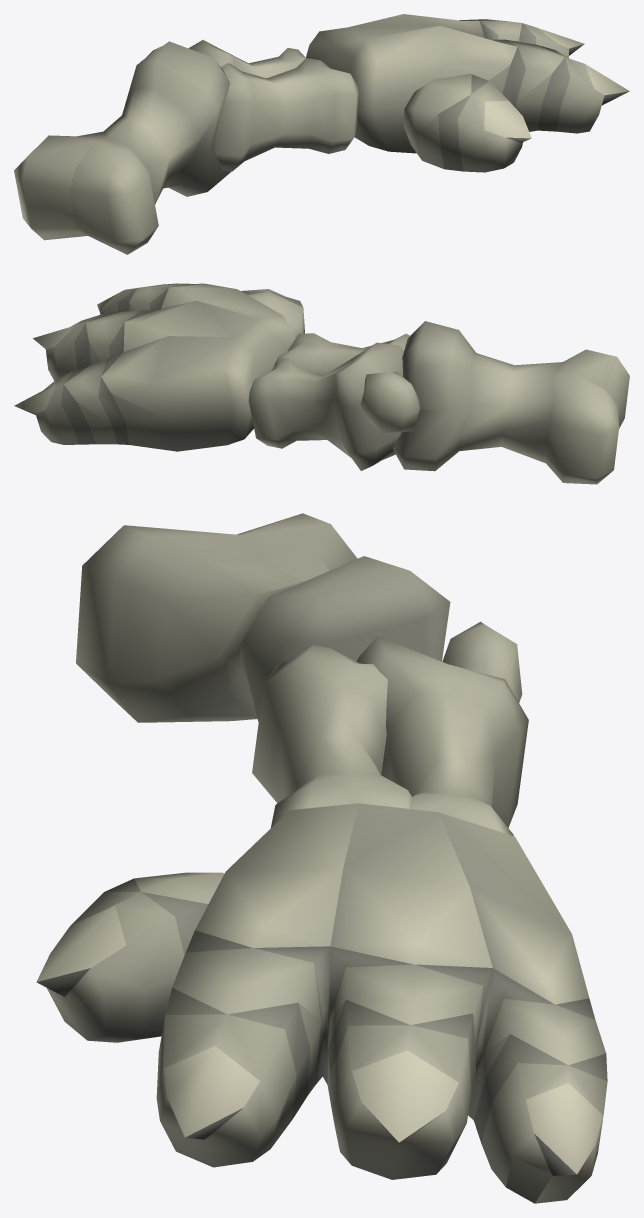
Rendered from deco_skeleton_arm_1.fbx.
3 views of the same model, one above another, from view 1: azimuth 30°, elevation 25°; view 2: azimuth 150°, elevation 25°; view 3: azimuth 270°, elevation 25° (orthographic). The views are drawn at different scales.
Visible parts, largest first — view 1: deco_skeleton_arm_1; view 2: deco_skeleton_arm_1; view 3: deco_skeleton_arm_1.
Boxes of the visible parts, x1,y1,x2,y2 form: deco_skeleton_arm_1: [14, 14, 629, 254]; deco_skeleton_arm_1: [14, 283, 629, 484]; deco_skeleton_arm_1: [36, 513, 607, 1203].
Bounding box in the file's own units: 100 × 26.44 × 44.45.
